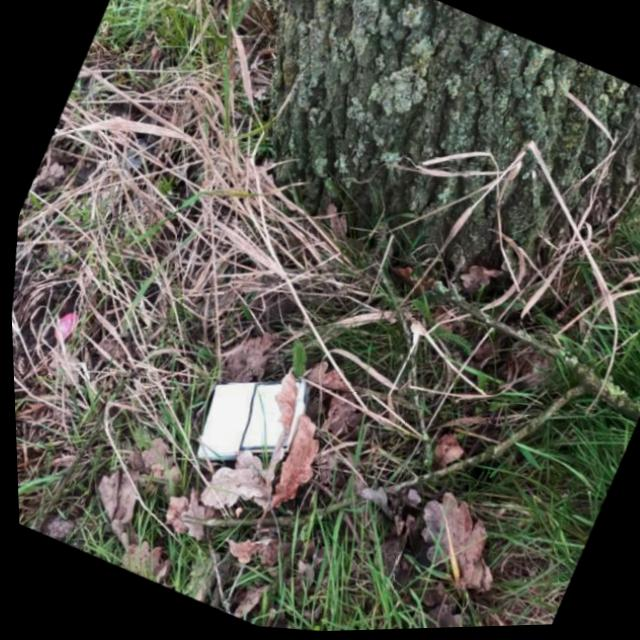Paper: (186, 368, 308, 474)
